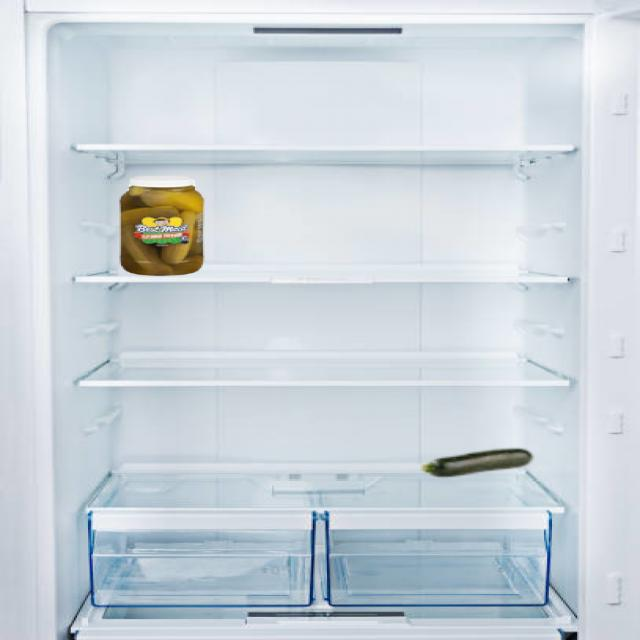pickle: (120, 174, 205, 276)
zucchini: (421, 447, 535, 480)
